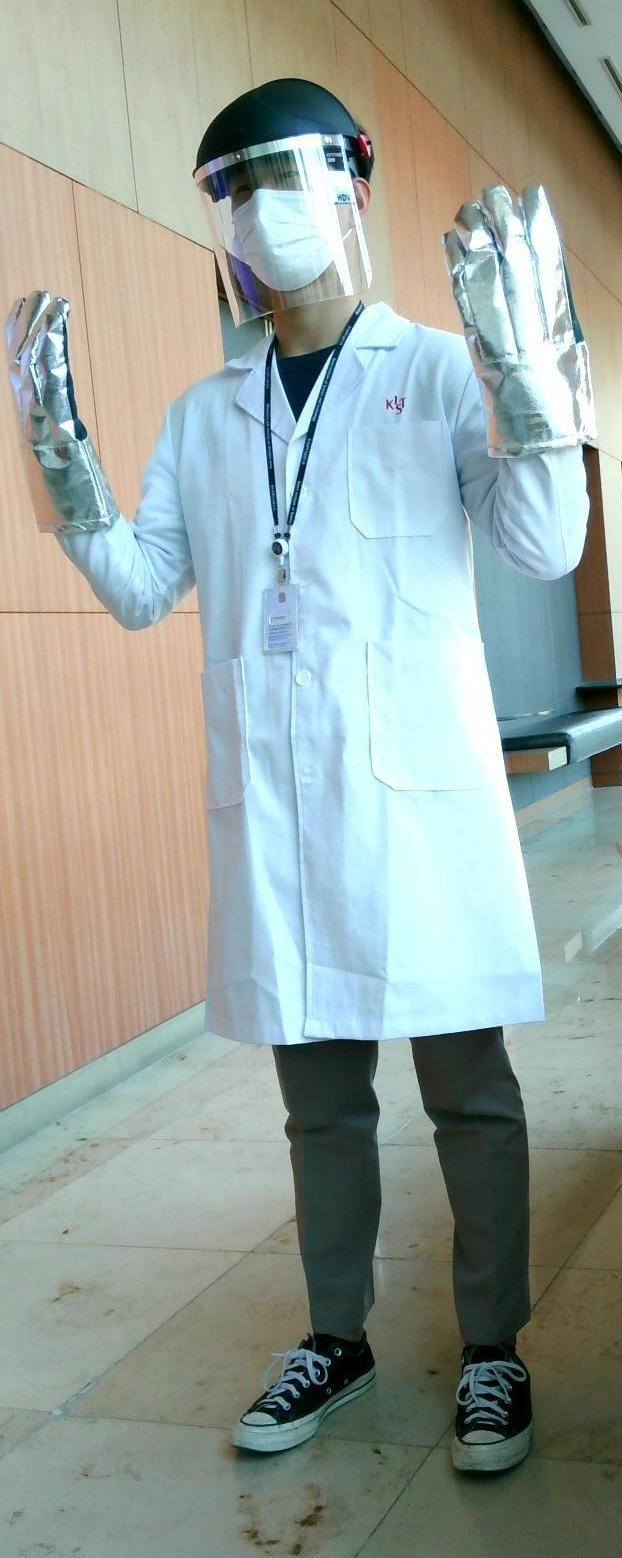lab_coat: (151, 337, 474, 1068)
